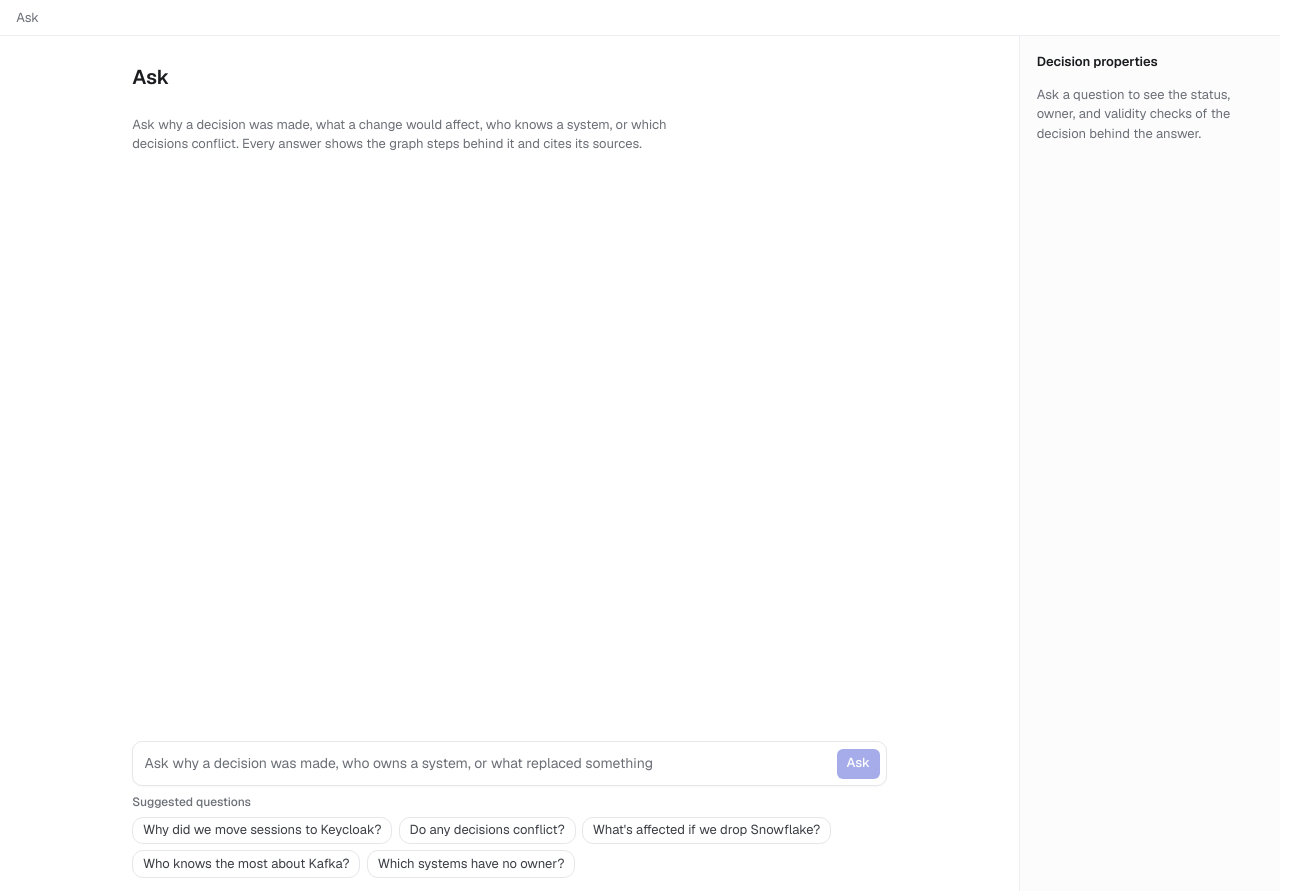
AskPage › renders answer, evidence path, sources and properties for an answerable question
The width and height of the screenshot is (1292, 891).
Replace the text in the field with placeholder "Ask why a decision was made, who owns a system, or what replaced something" with "What replaced Redis for session storage?": {"x": 487, "y": 764} [145,752,830,775]
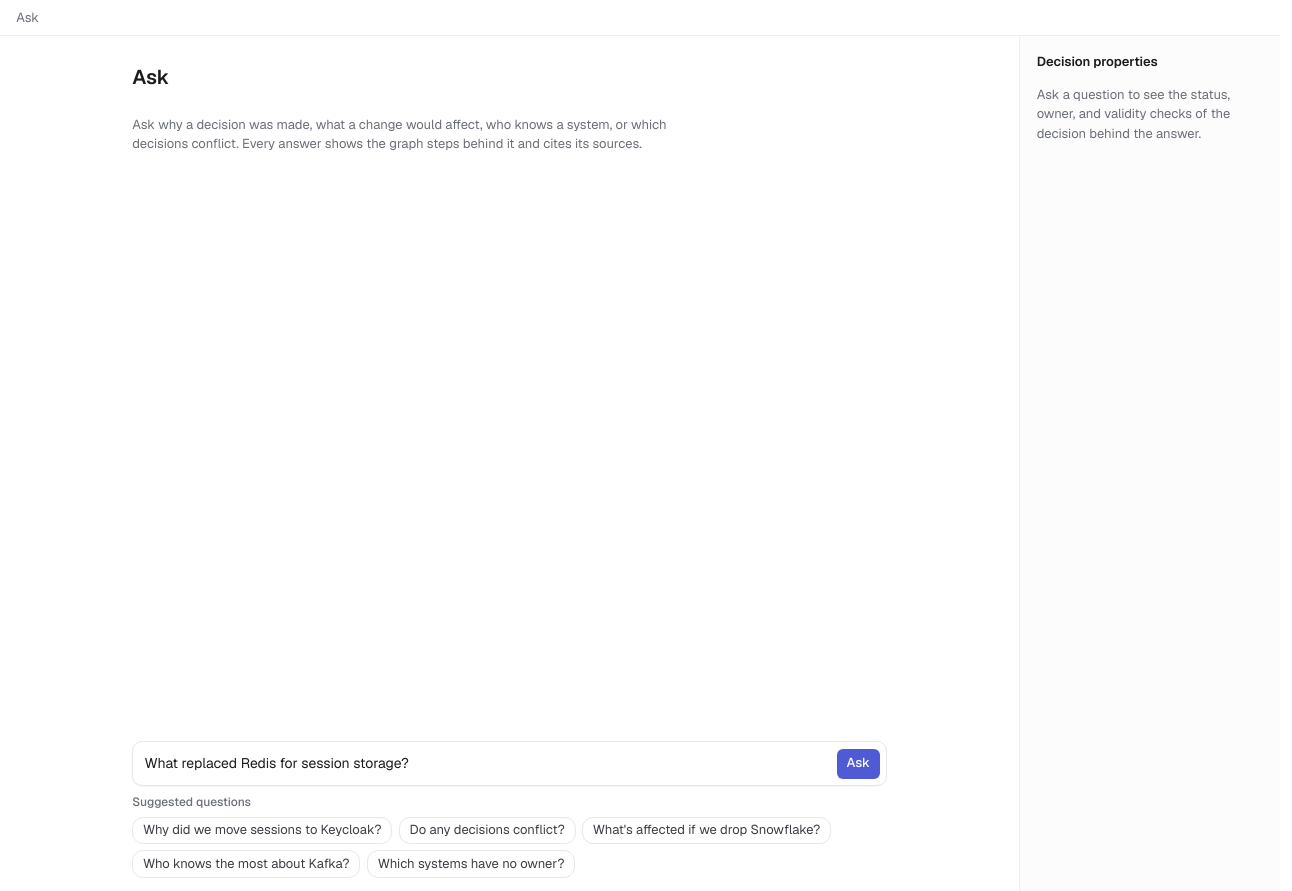
Click the button "Ask": {"x": 858, "y": 764} [837,749,880,779]
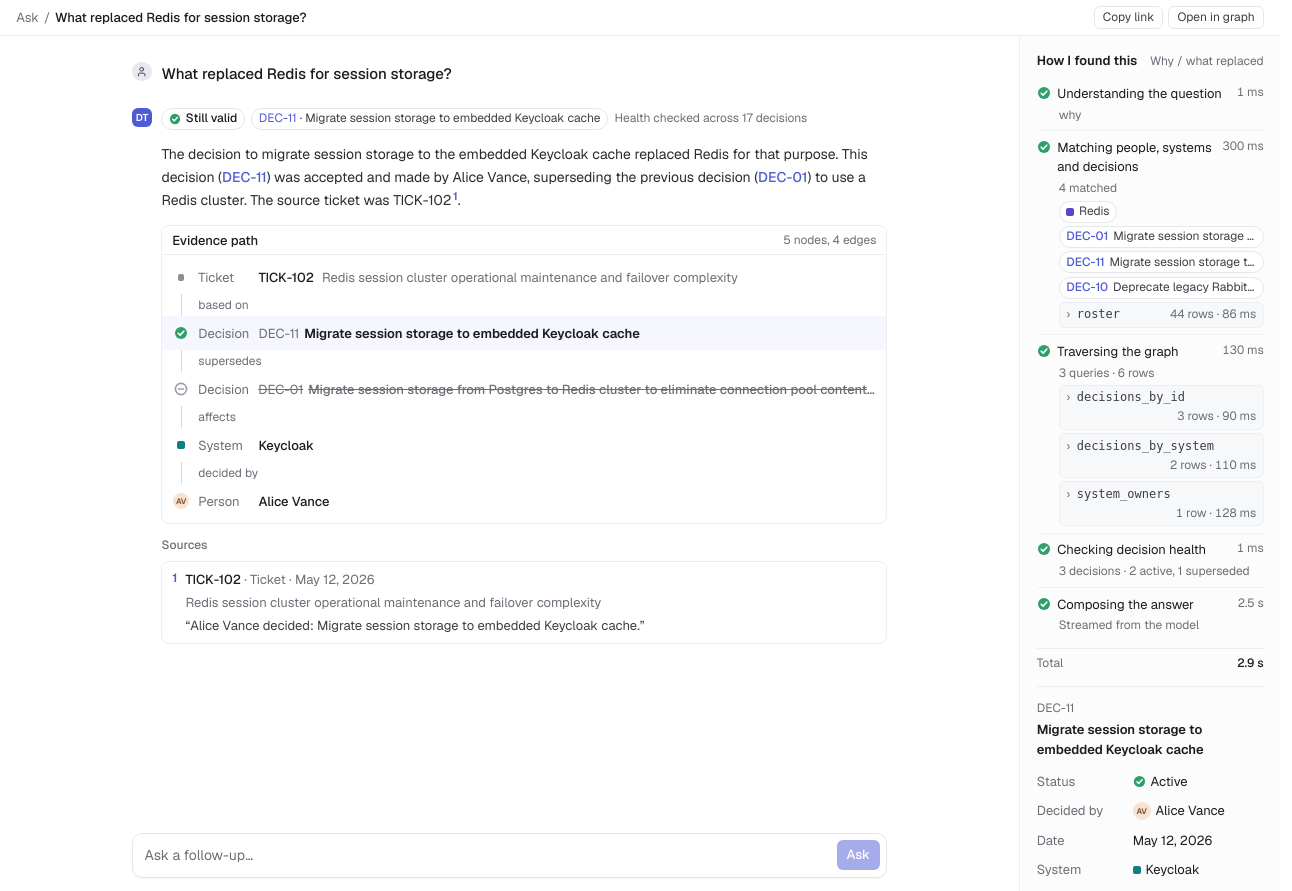
Check: the element "Evidence path" is shown, box [162,225,887,524]
Check: the element "Sources" is shown, box [162,537,887,644]
Check: the text "Still valid" is shown, box [162,108,245,130]
